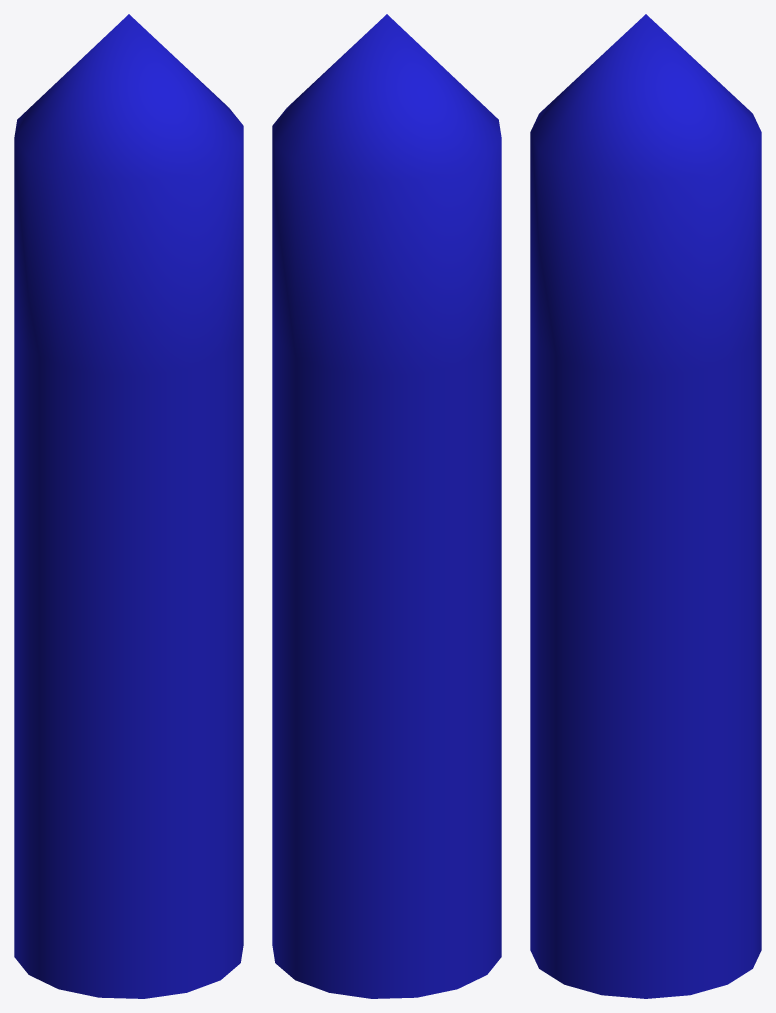
Rendered from SonicRightKnee.obj.
The picture shows the model from 3 angles, left to right: view 1: azimuth 30°, elevation 25°; view 2: azimuth 150°, elevation 25°; view 3: azimuth 270°, elevation 25°; orthographic projection.
Parts seen in each view (by area): view 1: Cylinder_3.002; view 2: Cylinder_3.002; view 3: Cylinder_3.002.
Part boxes in pixels (x1,y1,x2,y2): Cylinder_3.002: (14, 14, 243, 998); Cylinder_3.002: (272, 14, 501, 998); Cylinder_3.002: (530, 14, 761, 998).
Bounding box in the file's own units: 0.1584 × 0.7068 × 0.1584.
